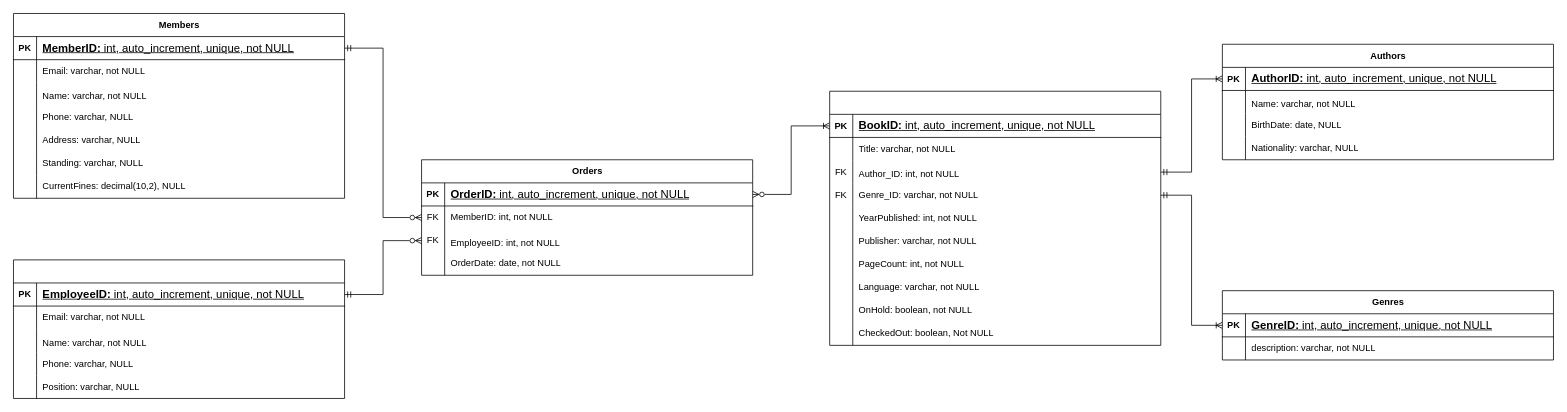
Some shapes in this 1567 by 412 pixel diagram are drawn without their labels. Here are the shapes that lost their labels. From the top down, the box of each, then its label:
(829, 90, 1161, 345): Books
(13, 259, 345, 398): Employees
